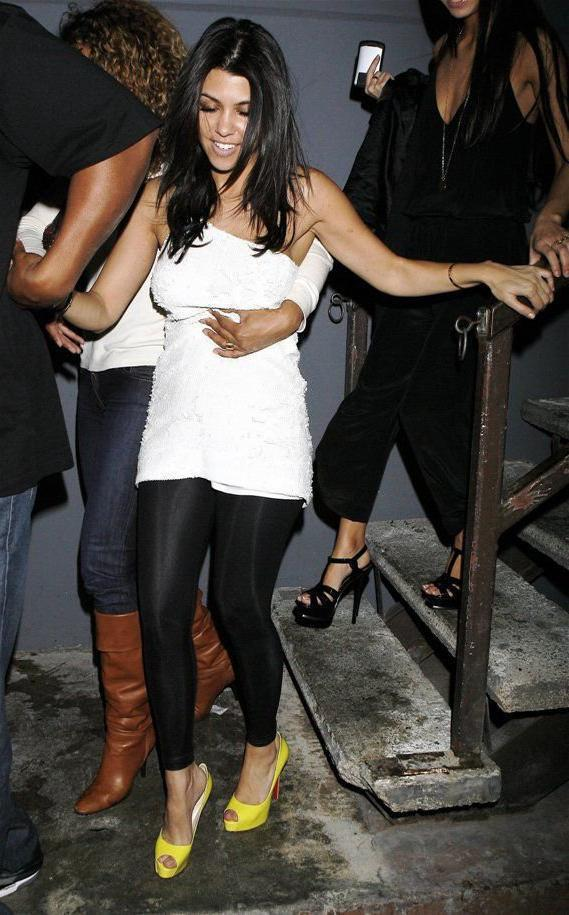Drunk: (195, 58, 258, 174)
